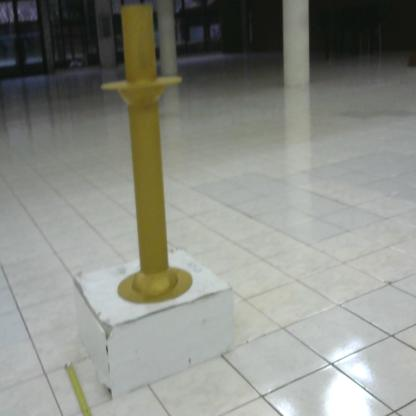pole: (93, 3, 210, 321)
